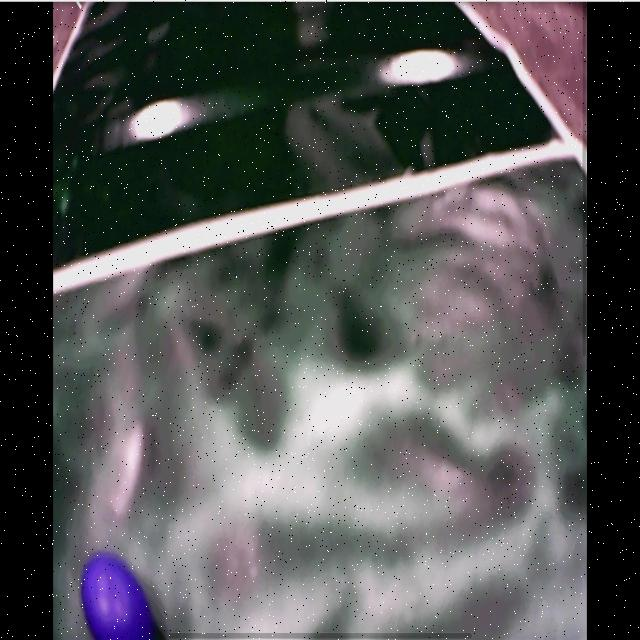ball: (82, 554, 150, 640)
